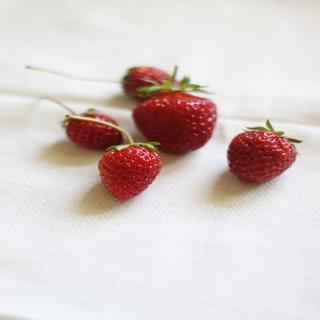Strawberry: (136, 63, 222, 152), (228, 122, 298, 181), (55, 105, 138, 151), (98, 147, 160, 204), (120, 59, 183, 100)
